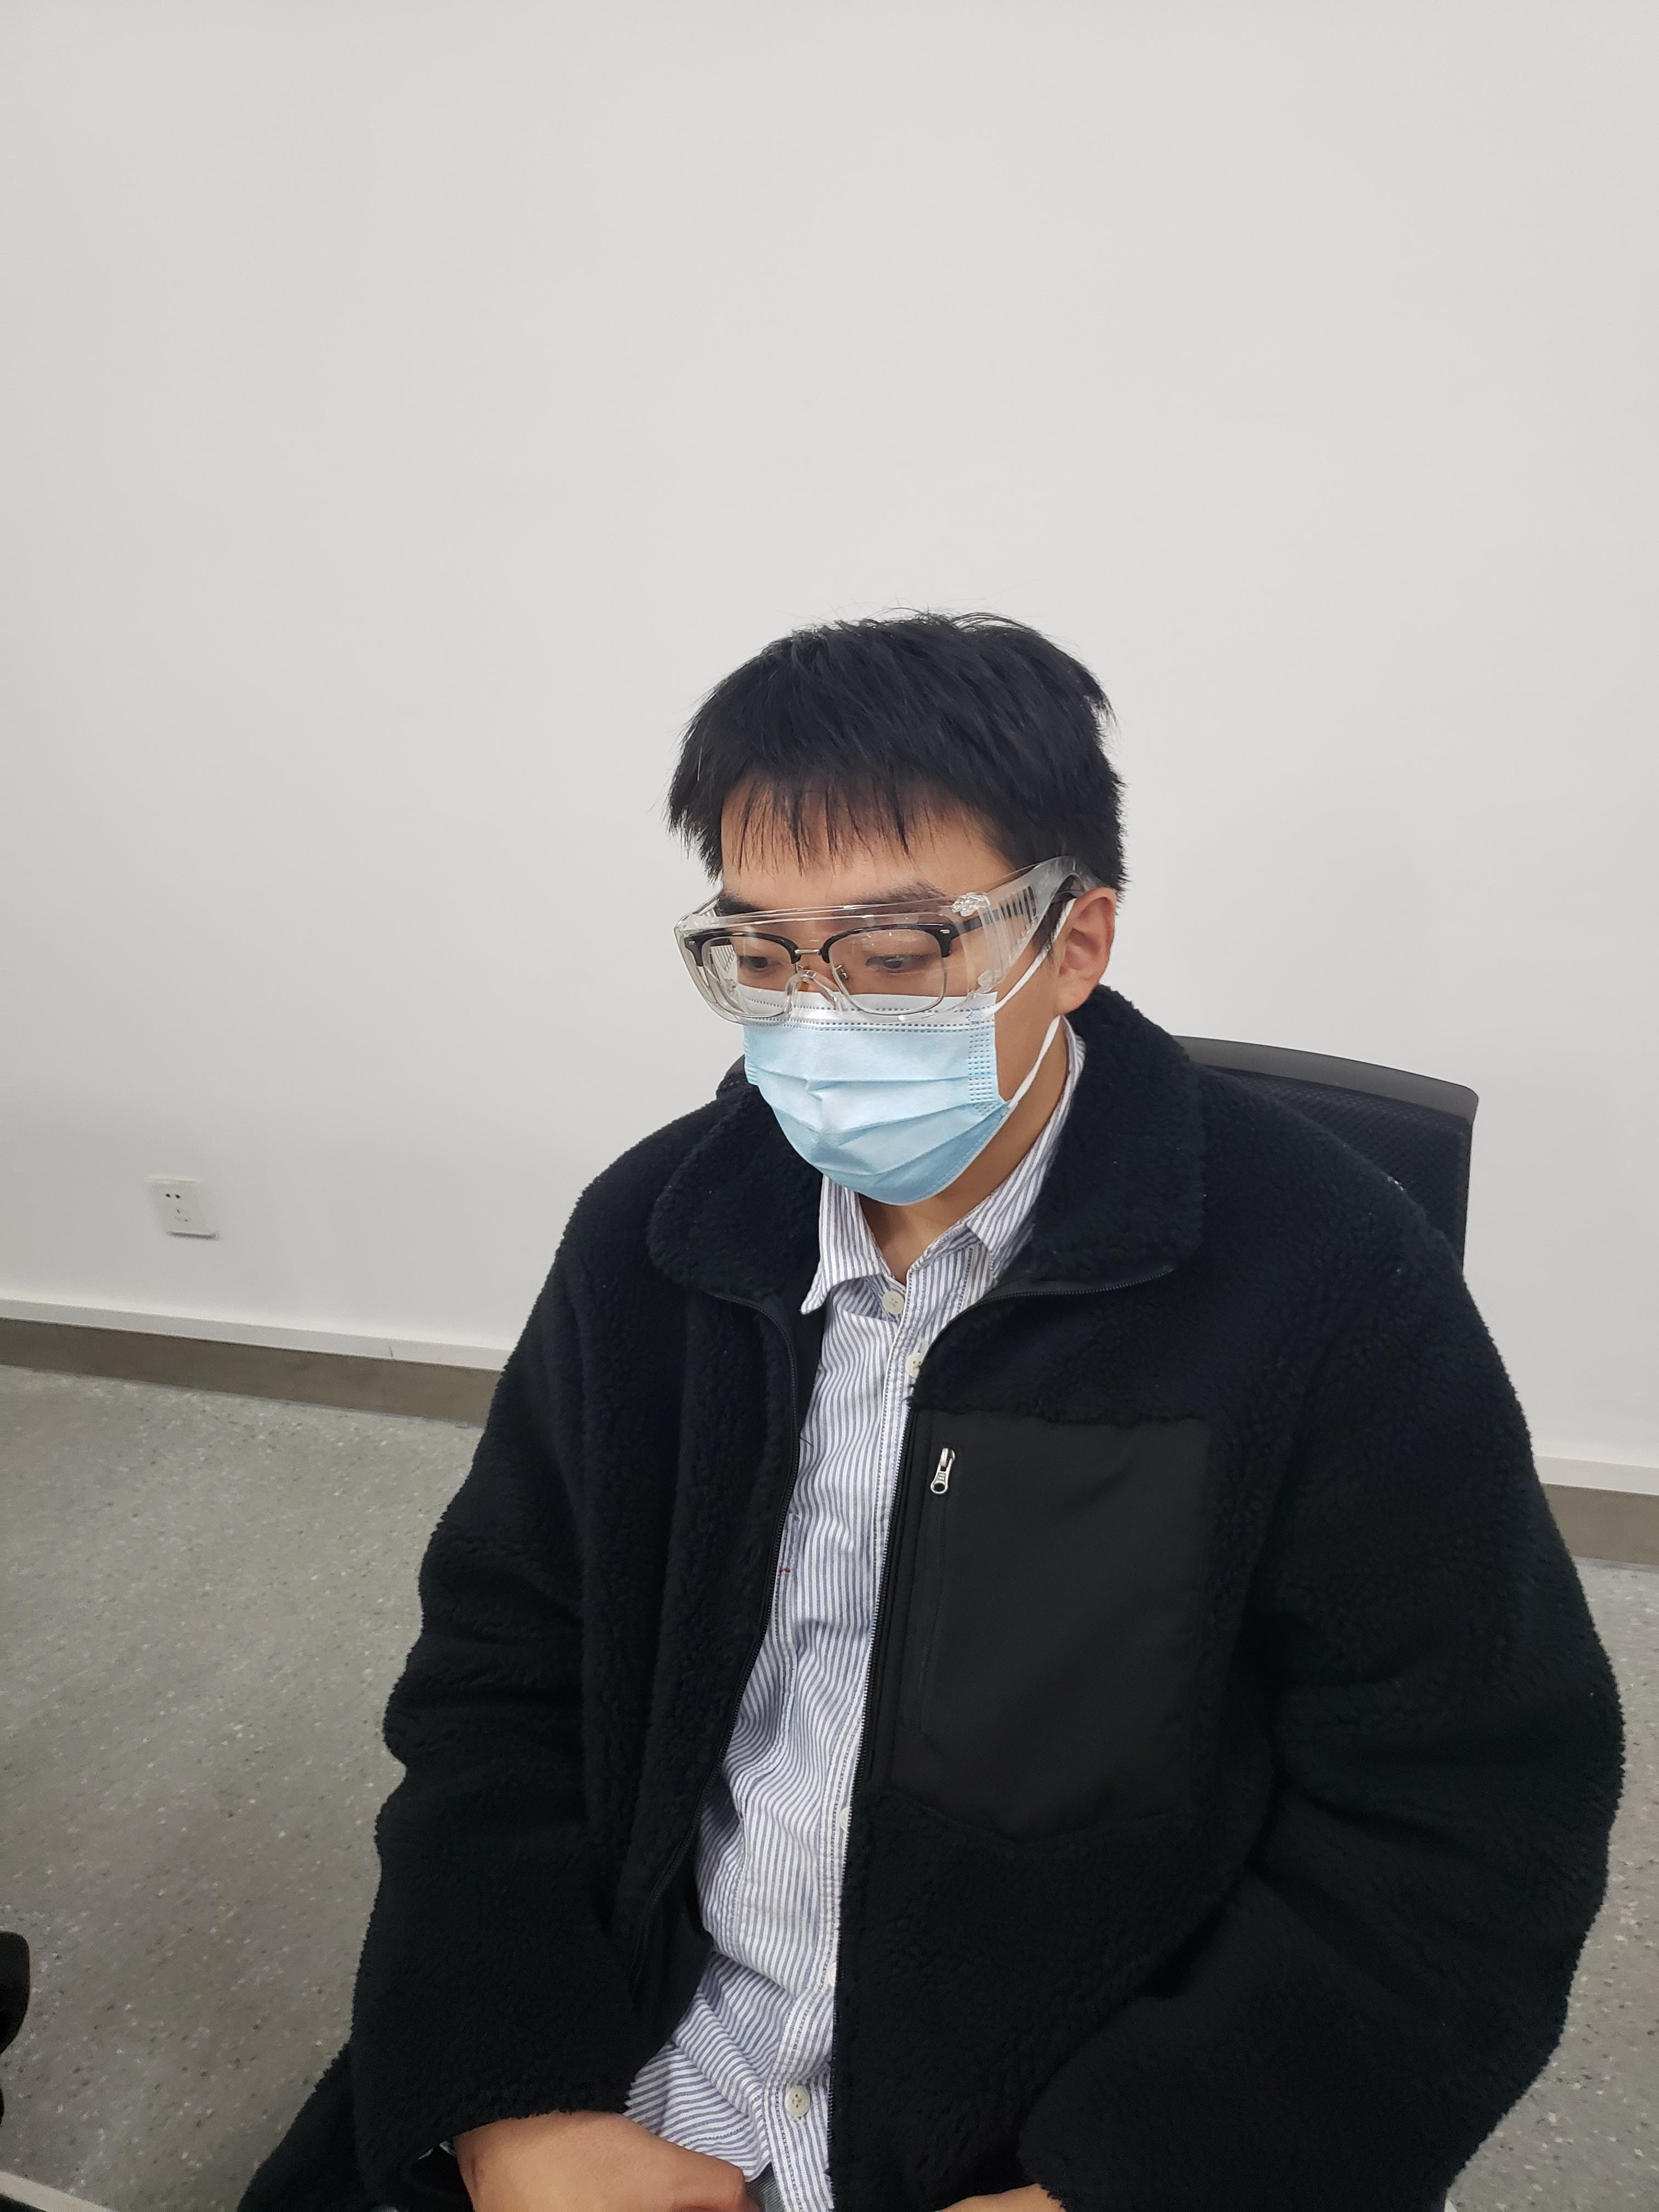Mask: (714, 981, 1073, 1216)
glasses: (678, 878, 1089, 1026)
